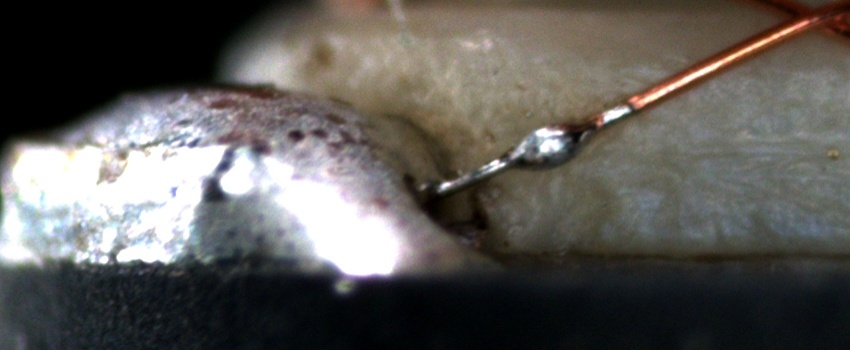CL: (760, 0, 844, 44)
DL: (617, 123, 850, 182), (572, 57, 850, 102)
TB: (507, 119, 589, 172)
TS: (428, 101, 631, 198)
TTCW: (435, 80, 670, 200)
